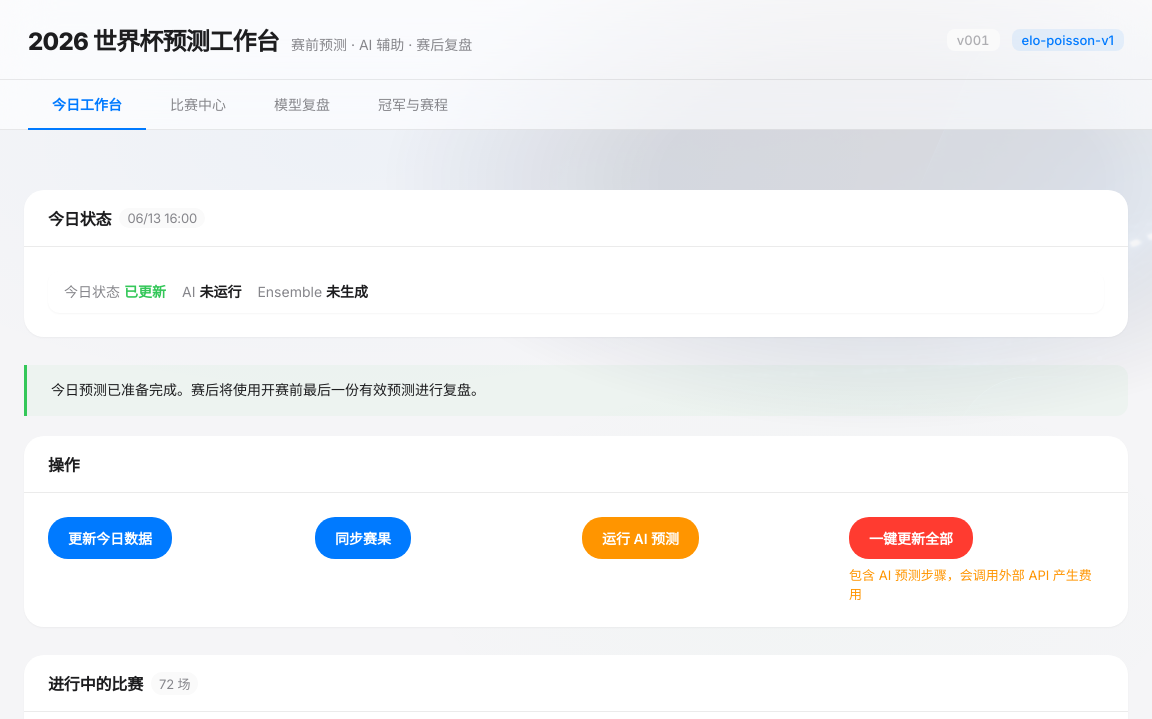
Test: shows profile Brier metrics in model review
Step 1. Click the tab "模型复盘" → coordinates (302, 105), box [250,80,354,130]
(page scrolled)
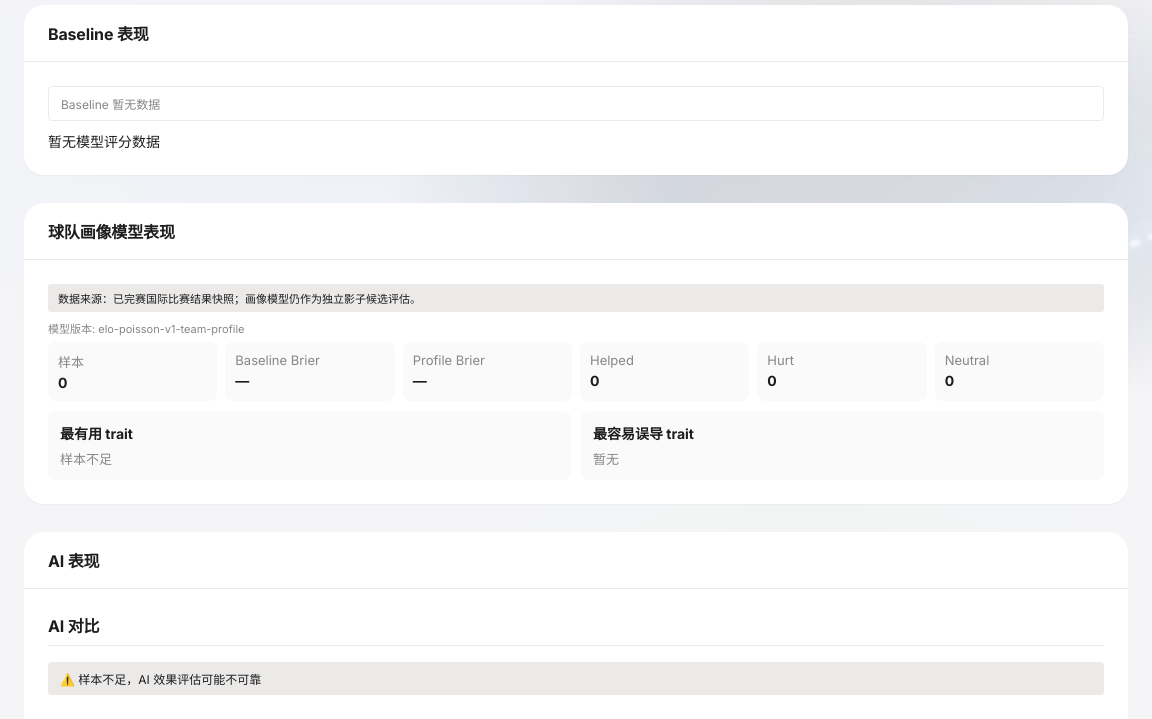
Expected: the heading "球队画像模型表现" is shown, [48,219,175,243]
Expected: the text "Profile Brier" is shown, [413,352,485,368]
